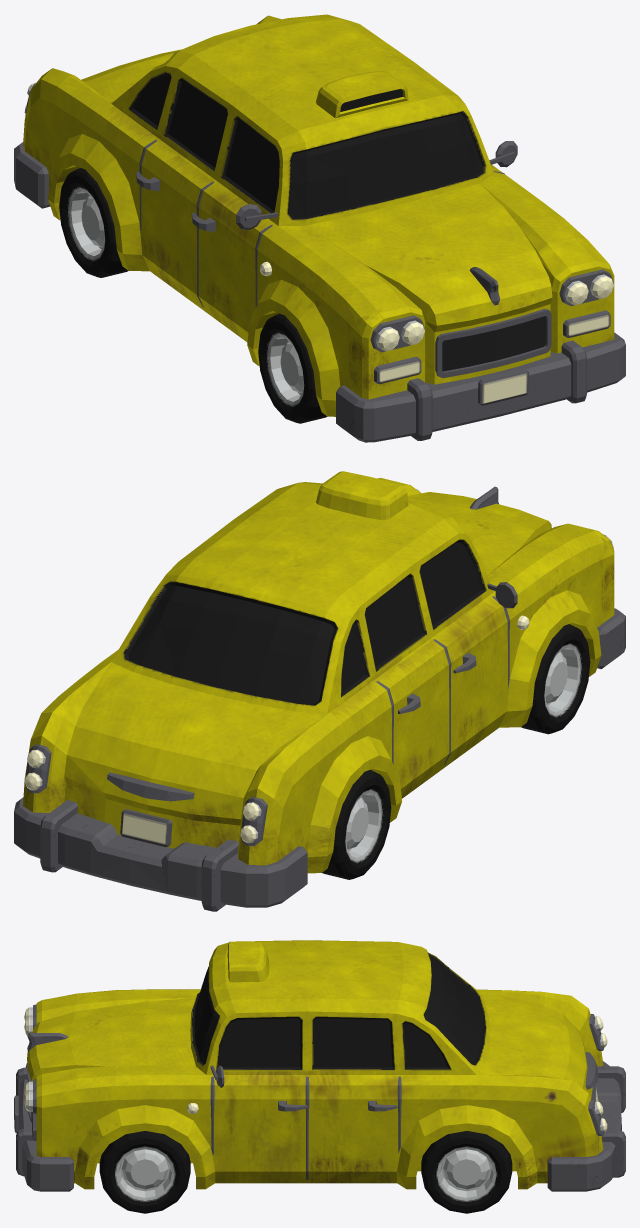
Rendered from VHC0110001.FBX.
The picture shows the model from 3 angles, top to bottom: view 1: azimuth 30°, elevation 25°; view 2: azimuth 150°, elevation 25°; view 3: azimuth 270°, elevation 25°; orthographic projection. The views are drawn at different scales.
Visible parts, largest first — view 1: smVHC0110001; view 2: smVHC0110001; view 3: smVHC0110001.
Part boxes in pixels (x1=…): smVHC0110001: x1=14, y1=14, x2=625, y2=442; smVHC0110001: x1=14, y1=471, x2=625, y2=911; smVHC0110001: x1=14, y1=940, x2=625, y2=1213.
Size of the model in its own units: 154 by 135 by 358.
Materials: 1 (1 with a texture image).
